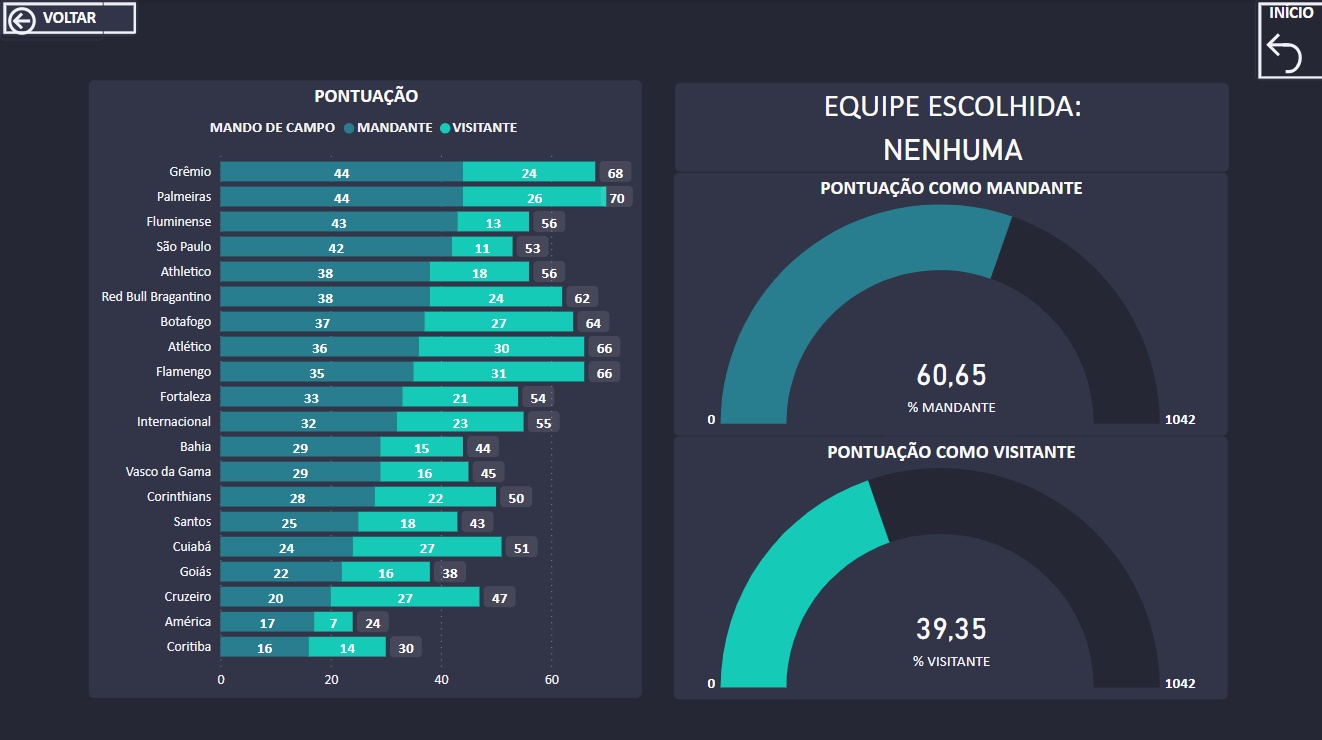

Layout of this report page (visuals, bound fields, positions):
{"tool":"powerbi","page":{"name":"4","canvas":[1280,720],"ordinal":4},"visuals":[{"type":"barChart","title":"PONTUAÇÃO","fields":{"Category":["PONTUACAO_FINAL_BR23.EQUIPE"],"Y":["Sum(PONTUACAO_FINAL_BR23.PONTUACAO_TOTAL_MANDANTE)","Sum(PONTUACAO_FINAL_BR23.PONTUACAO_TOTAL_VISITANTE)"]},"box":[85.8,78.6,533.9,596.2],"z":0},{"type":"gauge","title":"PONTUAÇÃO COMO MANDANTE","fields":{"Y":["Sum(PONTUACAO_FINAL_BR23.PONTUACAO_TOTAL_MANDANTE)"]},"box":[650.5,167.2,534.3,253.3],"z":1000},{"type":"card","title":"EQUIPE ESCOLHIDA:","fields":{"Values":["PONTUACAO_FINAL_BR23.Valor do Cartão"]},"box":[651,81.3,534.3,85.6],"z":2000},{"type":"gauge","title":"PONTUAÇÃO COMO VISITANTE","fields":{"Y":["Sum(PONTUACAO_FINAL_BR23.PONTUACAO_TOTAL_VISITANTE)"]},"box":[650.5,421.6,534.3,253.3],"z":3000},{"type":"textbox","box":[0,0,132.5,35],"z":4000},{"type":"actionButton","box":[1210.9,0,68.7,78.4],"z":5000},{"type":"actionButton","title":"INÍCIO","box":[1210.9,0,68.7,78.4],"z":6000},{"type":"textbox","box":[-0.5,-0.5,132.5,35],"z":7000},{"type":"actionButton","box":[0,0,132.7,35],"z":8000},{"type":"card","fields":{"Values":["PONTUACAO_FINAL_BR23.% MANDANTE"]},"box":[850.3,314.8,133.9,107.3],"z":9000},{"type":"actionButton","box":[0,0,100,40],"z":10000},{"type":"card","fields":{"Values":["PONTUACAO_FINAL_BR23.% VISITANTE"]},"box":[850.3,551.2,133.9,124.2],"z":11000}]}

Visuals, with their boxes in screenshot pixels (x1, y1, x2, y2), scaled from the page's 1280x720 canvas onto the 1322x740 screenshot:
"PONTUAÇÃO" barChart: 89,81,640,694
"PONTUAÇÃO COMO MANDANTE" gauge: 672,172,1224,432
"EQUIPE ESCOLHIDA:" card: 672,84,1224,172
"PONTUAÇÃO COMO VISITANTE" gauge: 672,433,1224,694
textbox: 0,0,137,36
actionButton: 1251,0,1321,81
"INÍCIO" actionButton: 1251,0,1321,81
textbox: 0,0,136,35
actionButton: 0,0,137,36
card - PONTUACAO_FINAL_BR23.% MANDANTE: 878,324,1016,434
actionButton: 0,0,103,41
card - PONTUACAO_FINAL_BR23.% VISITANTE: 878,567,1016,694
